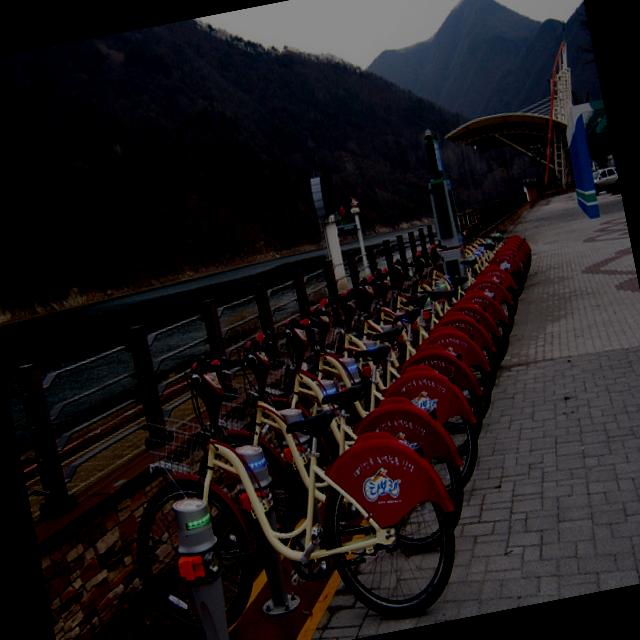Vehicle: (590, 164, 620, 194)
